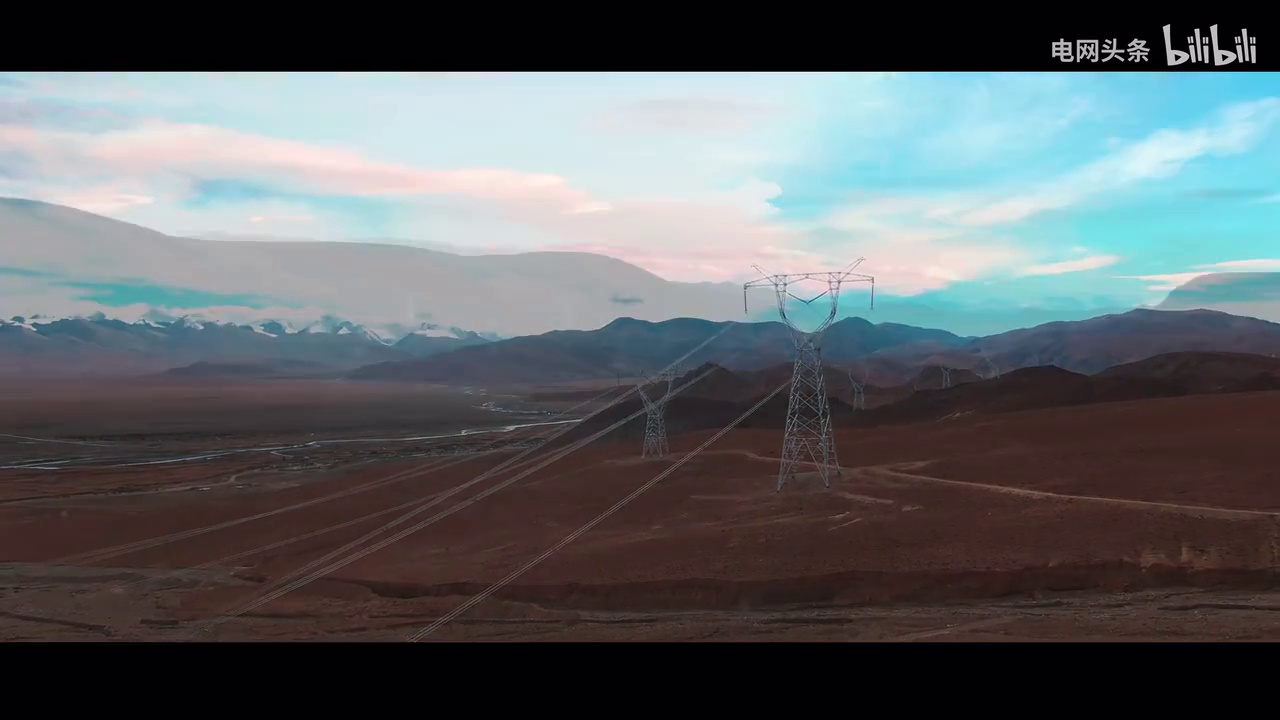tower_body: (723, 254, 897, 503), (616, 361, 696, 472)
tower_foot: (773, 428, 847, 496), (638, 436, 680, 466)
tower_head: (734, 261, 883, 348), (625, 367, 686, 416)
